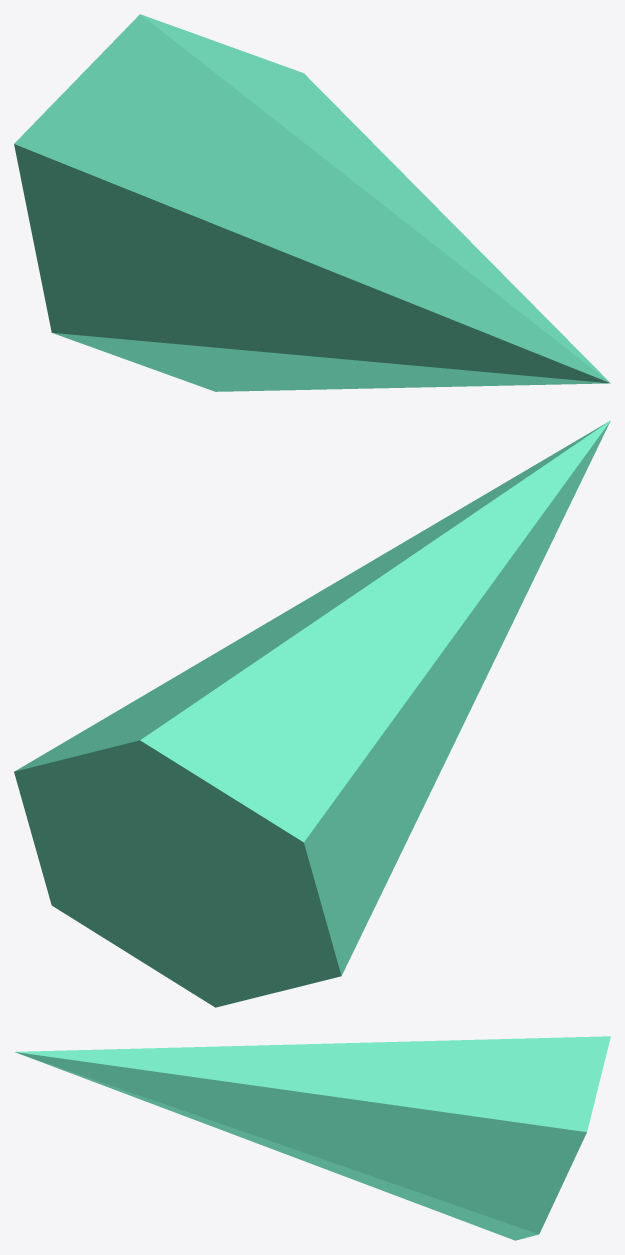
The model's file is rover_scan.glb.
The picture shows the model from 3 angles, top to bottom: view 1: azimuth 30°, elevation 25°; view 2: azimuth 150°, elevation 25°; view 3: azimuth 270°, elevation 25°; orthographic projection. The views are drawn at different scales.
Visible parts, largest first — view 1: effect; view 2: effect; view 3: effect.
Boxes of the visible parts, x1,y1,x2,y2 form: effect: [14, 14, 610, 391]; effect: [14, 420, 610, 1007]; effect: [15, 1036, 610, 1240].
Size of the model in its own units: 1.73 by 1.84 by 4.87.
